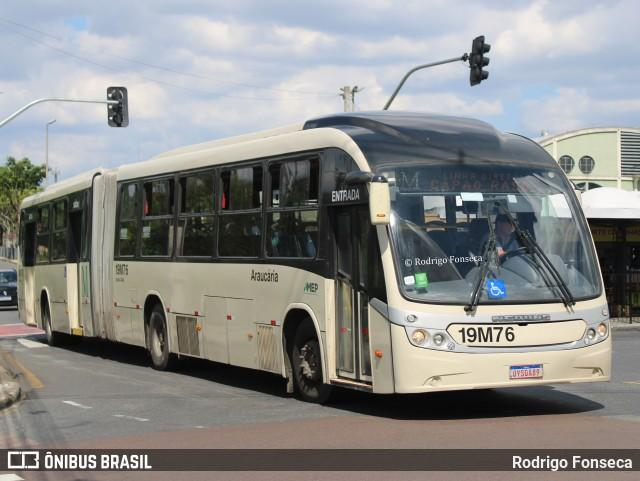CAPAO RASO: (426, 176, 534, 195)
